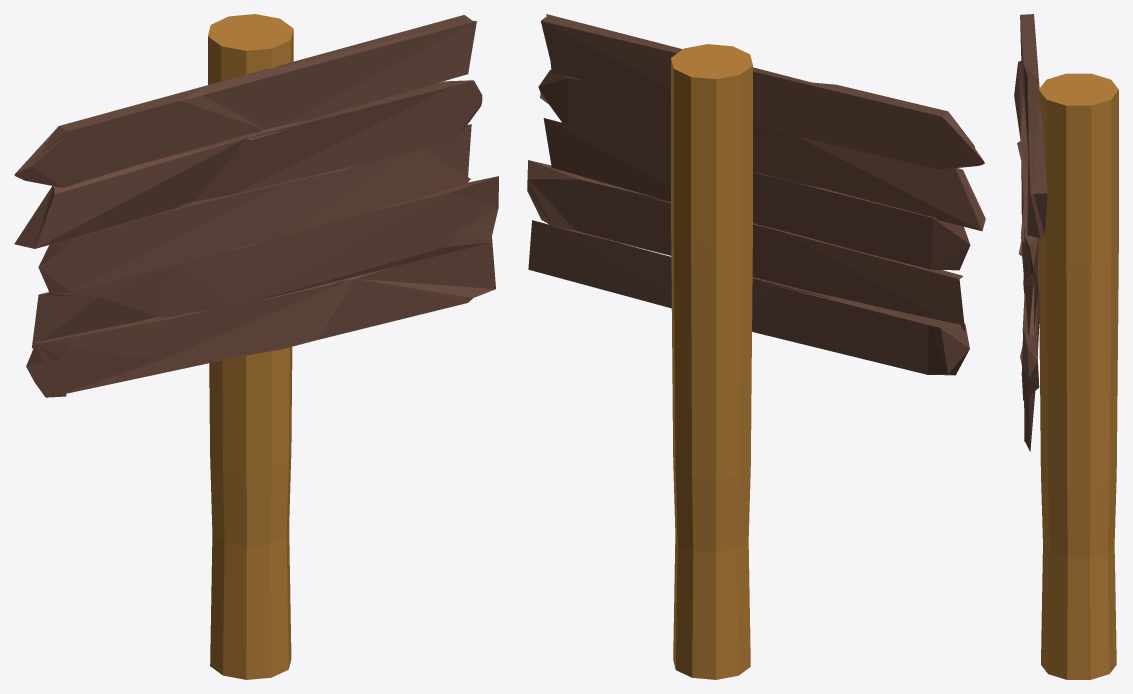
Rendered from sign.glb.
3 views of the same model, side by side, from view 1: azimuth 30°, elevation 25°; view 2: azimuth 150°, elevation 25°; view 3: azimuth 270°, elevation 25° (orthographic). The views are drawn at different scales.
Parts seen in each view (by area): view 1: node_MeshObject-258003584-PolyPaper20; view 2: node_MeshObject-258003584-PolyPaper20; view 3: node_MeshObject-258003584-PolyPaper20.
Boxes of the visible parts, box(x1,y1,x2,y2) form: node_MeshObject-258003584-PolyPaper20: box(14, 14, 498, 679); node_MeshObject-258003584-PolyPaper20: box(527, 14, 985, 679); node_MeshObject-258003584-PolyPaper20: box(1014, 14, 1118, 679).
Bounding box in the file's own units: 1.08 × 1.35 × 0.2236.
